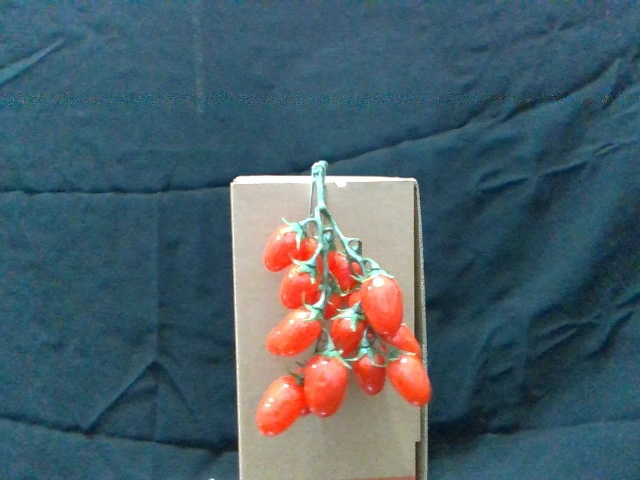tomato: (360, 266, 410, 338), (255, 373, 306, 437), (304, 354, 348, 417), (388, 351, 434, 406), (269, 306, 321, 354), (263, 222, 309, 273), (281, 261, 325, 307), (330, 306, 369, 356), (354, 348, 388, 393)
